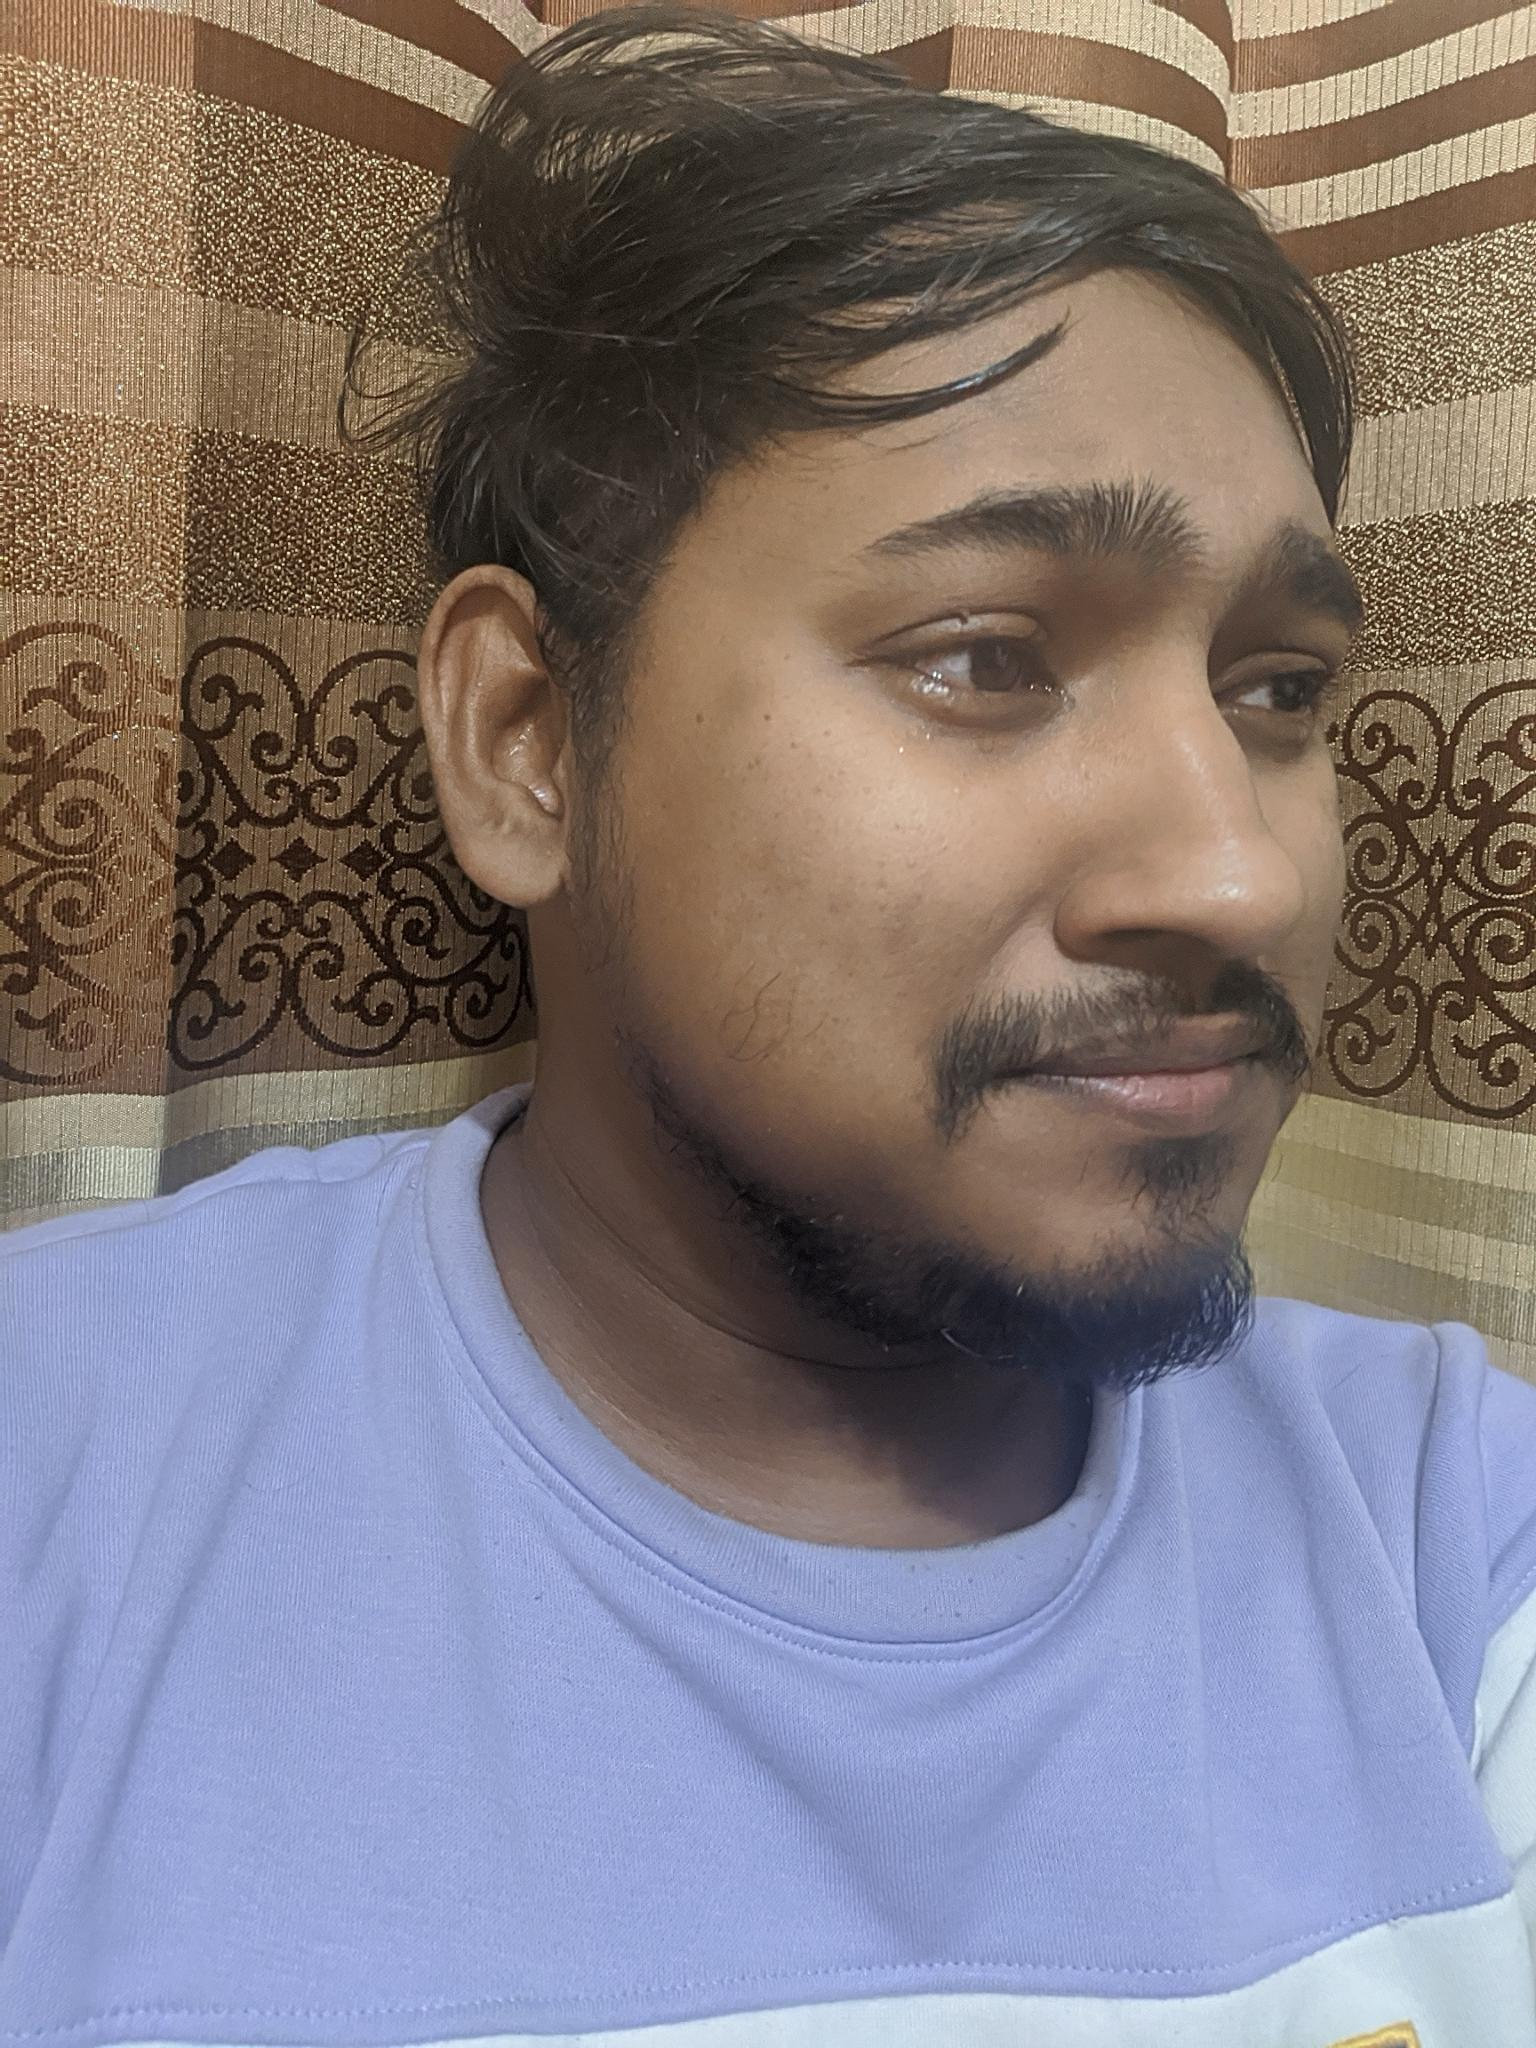Sad: (749, 387, 1463, 1364)
